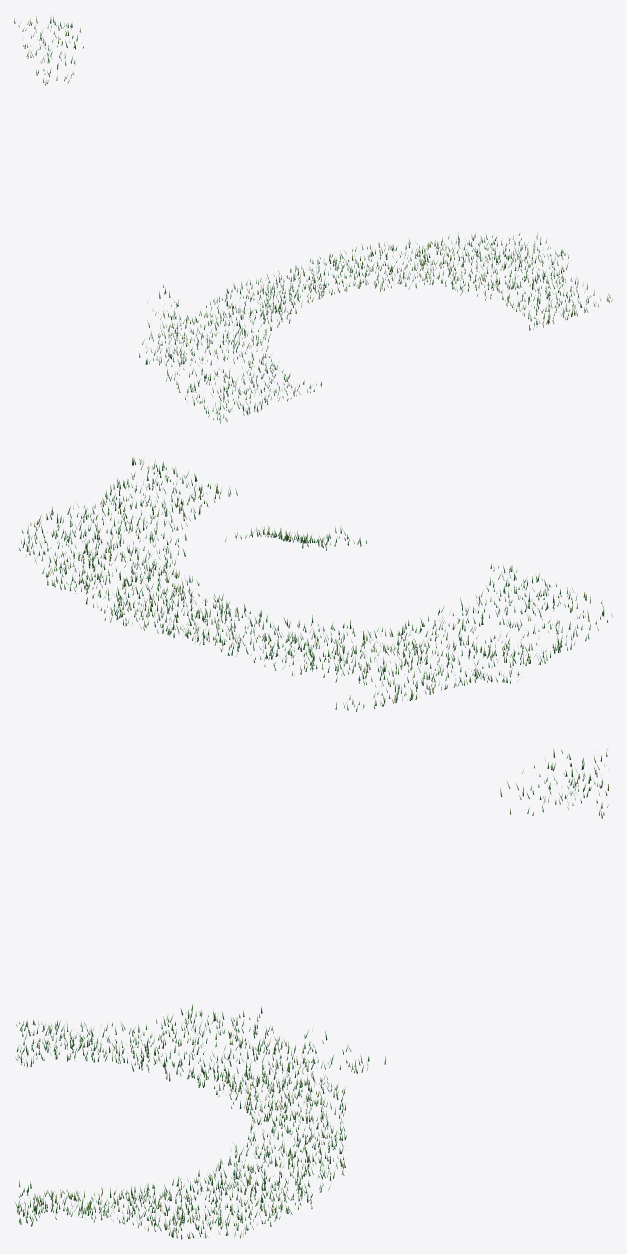
3 views of the same model, one above another, from view 1: azimuth 30°, elevation 25°; view 2: azimuth 150°, elevation 25°; view 3: azimuth 270°, elevation 25° (orthographic). The views are drawn at different scales.
Parts seen in each view (by area): view 1: gc_52; view 2: gc_52; view 3: gc_52.
Part boxes in pixels (box(x1,y1,x2,y2)): gc_52: box(14, 15, 612, 423); gc_52: box(18, 457, 612, 711); gc_52: box(15, 748, 608, 1239).
Bounding box in the file's own units: 18.1 × 9.99 × 18.22.
Materials: 1 (1 with a texture image).
